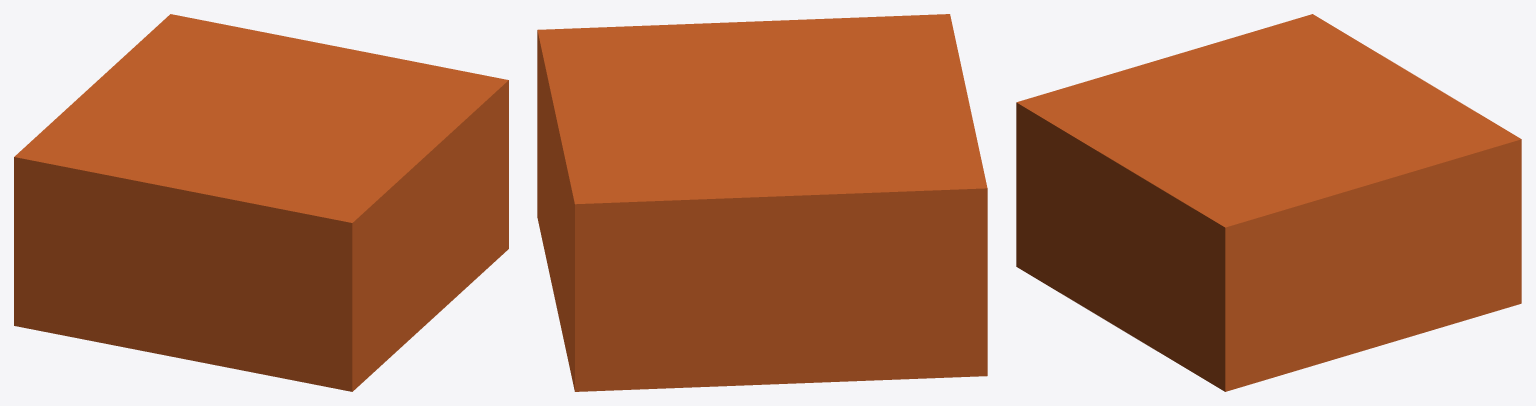
The picture shows the model from 3 angles, left to right: view 1: azimuth 30°, elevation 25°; view 2: azimuth 150°, elevation 25°; view 3: azimuth 270°, elevation 25°; orthographic projection. The views are drawn at different scales.
Parts seen in each view (by area): view 1: Box_4; view 2: Box_4; view 3: Box_4.
Boxes of the visible parts, x1,y1,x2,y2 form: Box_4: (14,14,508,391); Box_4: (537,14,987,391); Box_4: (1016,14,1521,391).
Bounding box in the file's own units: 34.84 × 12.5 × 34.84.
